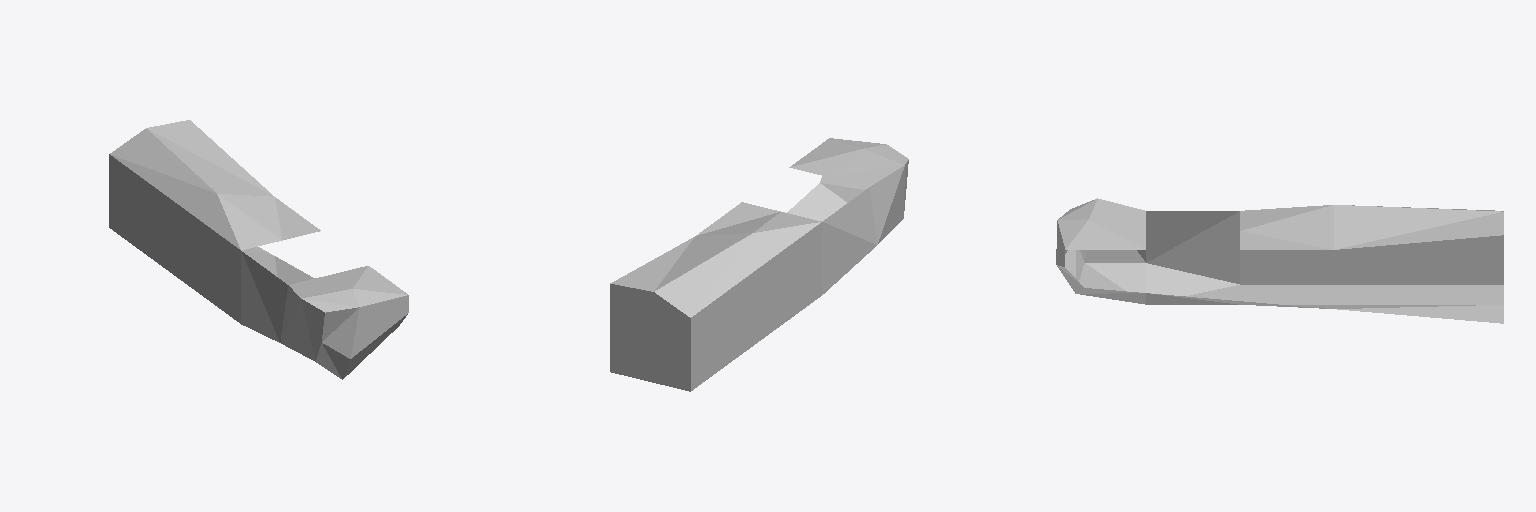
The model's file is TilePlatformBorderLGrass.obj.
The picture shows the model from 3 angles: view 1: azimuth 30°, elevation 25°; view 2: azimuth 150°, elevation 25°; view 3: azimuth 270°, elevation 25°; orthographic projection.
Size of the model in its own units: 1.04 by 0.9863 by 4.4.